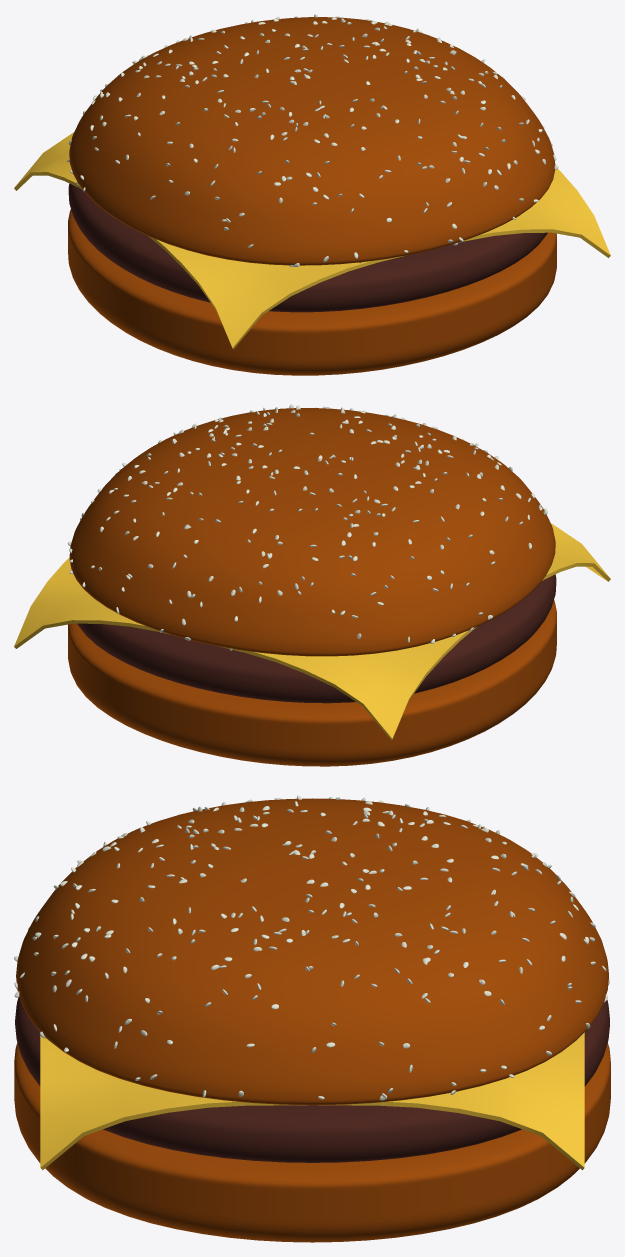
Rendered from hamburger.glb.
The picture shows the model from 3 angles, top to bottom: view 1: azimuth 30°, elevation 25°; view 2: azimuth 150°, elevation 25°; view 3: azimuth 270°, elevation 25°; orthographic projection. The views are drawn at different scales.
Parts seen in each view (by area): view 1: Bottom bun.001, Bottom bun, Steak, Plane; view 2: Bottom bun.001, Bottom bun, Steak, Plane; view 3: Bottom bun.001, Bottom bun, Steak, Plane.
Boxes of the visible parts, x1,y1,x2,y2 form: Bottom bun.001: (69, 17, 555, 265); Bottom bun: (68, 209, 556, 375); Steak: (68, 183, 547, 312); Plane: (14, 132, 610, 349); Bottom bun.001: (69, 408, 555, 656); Bottom bun: (68, 600, 556, 766); Steak: (77, 574, 556, 703); Plane: (14, 523, 610, 740); Bottom bun.001: (16, 798, 608, 1105); Bottom bun: (14, 1043, 610, 1242); Steak: (15, 997, 609, 1162); Plane: (40, 1032, 584, 1170).
Bounding box in the file's own units: 4.89 × 2.64 × 4.89.
